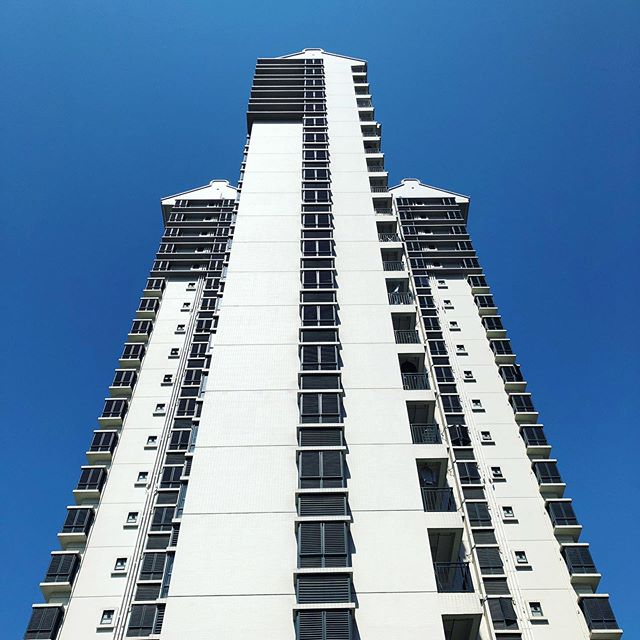building: (37, 21, 598, 628)
sky: (1, 1, 627, 202)
